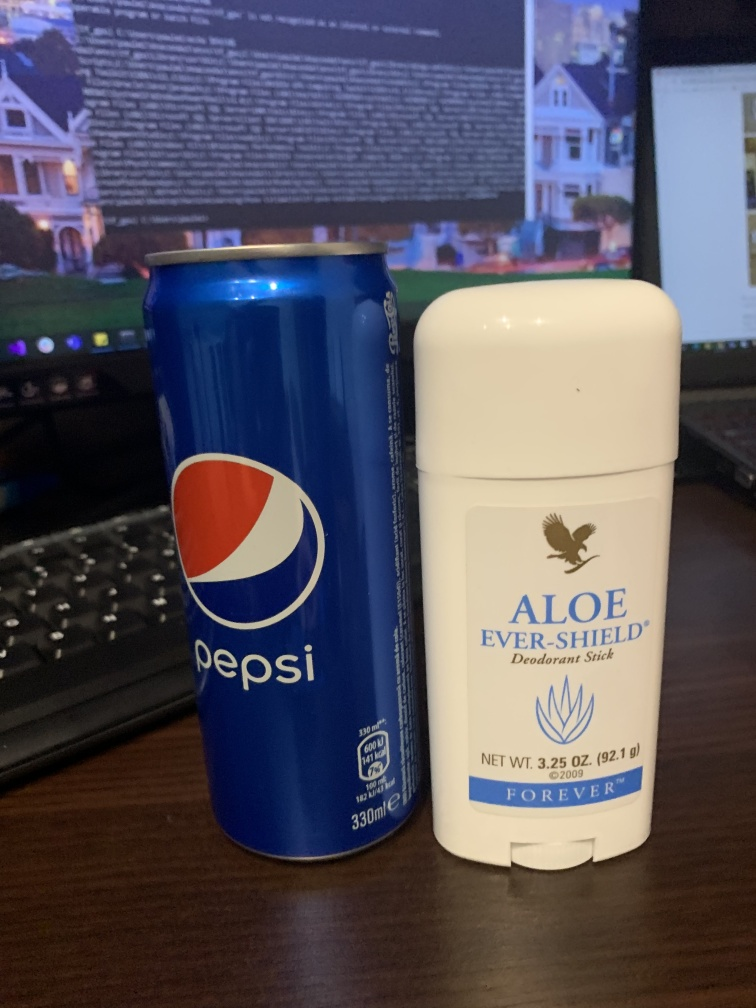pepsi: (132, 242, 424, 877)
